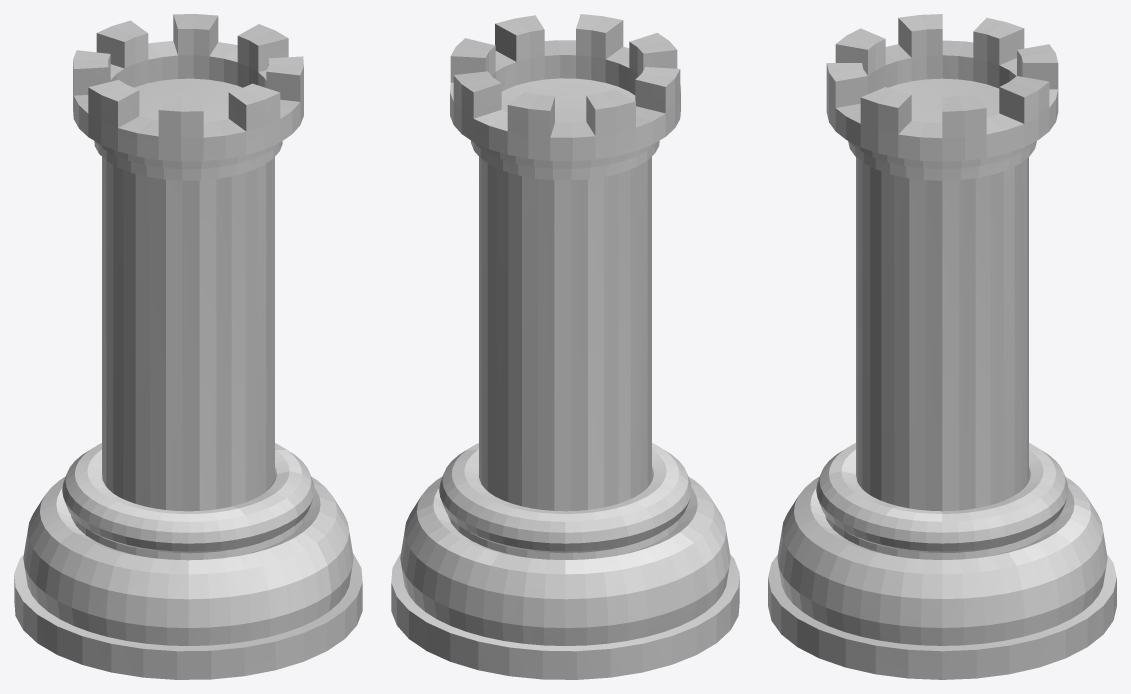
File: Castle.fbx
3 renders of one model, left to right at view 1: azimuth 30°, elevation 25°; view 2: azimuth 150°, elevation 25°; view 3: azimuth 270°, elevation 25°, orthographic.
Parts seen in each view (by area): view 1: CastleWhite; view 2: CastleWhite; view 3: CastleWhite.
Boxes of the visible parts, x1=… form: CastleWhite: x1=14, y1=14, x2=362, y2=679; CastleWhite: x1=391, y1=14, x2=739, y2=679; CastleWhite: x1=768, y1=14, x2=1116, y2=679.
Size of the model in its own units: 81.74 by 142 by 81.74.
